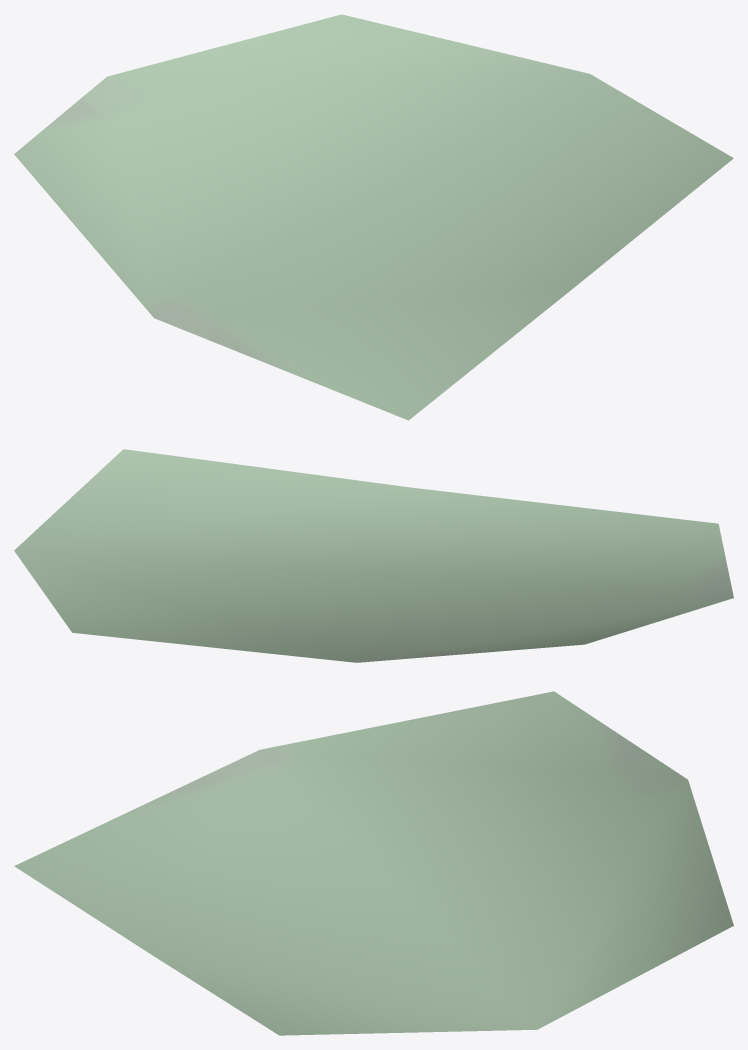
File: TROLLHOLE02_HOLECAP190.fbx
The picture shows the model from 3 angles, top to bottom: view 1: azimuth 30°, elevation 25°; view 2: azimuth 150°, elevation 25°; view 3: azimuth 270°, elevation 25°; orthographic projection. The views are drawn at different scales.
Parts seen in each view (by area): view 1: TROLLHOLE02_HOLECAP190; view 2: TROLLHOLE02_HOLECAP190; view 3: TROLLHOLE02_HOLECAP190.
Part boxes in pixels (left/top/right/bottom): TROLLHOLE02_HOLECAP190: left=14, top=14, right=733, bottom=420; TROLLHOLE02_HOLECAP190: left=14, top=449, right=733, bottom=662; TROLLHOLE02_HOLECAP190: left=14, top=691, right=733, bottom=1035.
Bounding box in the file's own units: 11643 × 2001 × 11996.
Materials: 1 (1 with a texture image).
